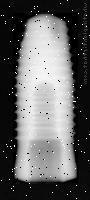3M ESPE: (10, 12, 78, 183)
